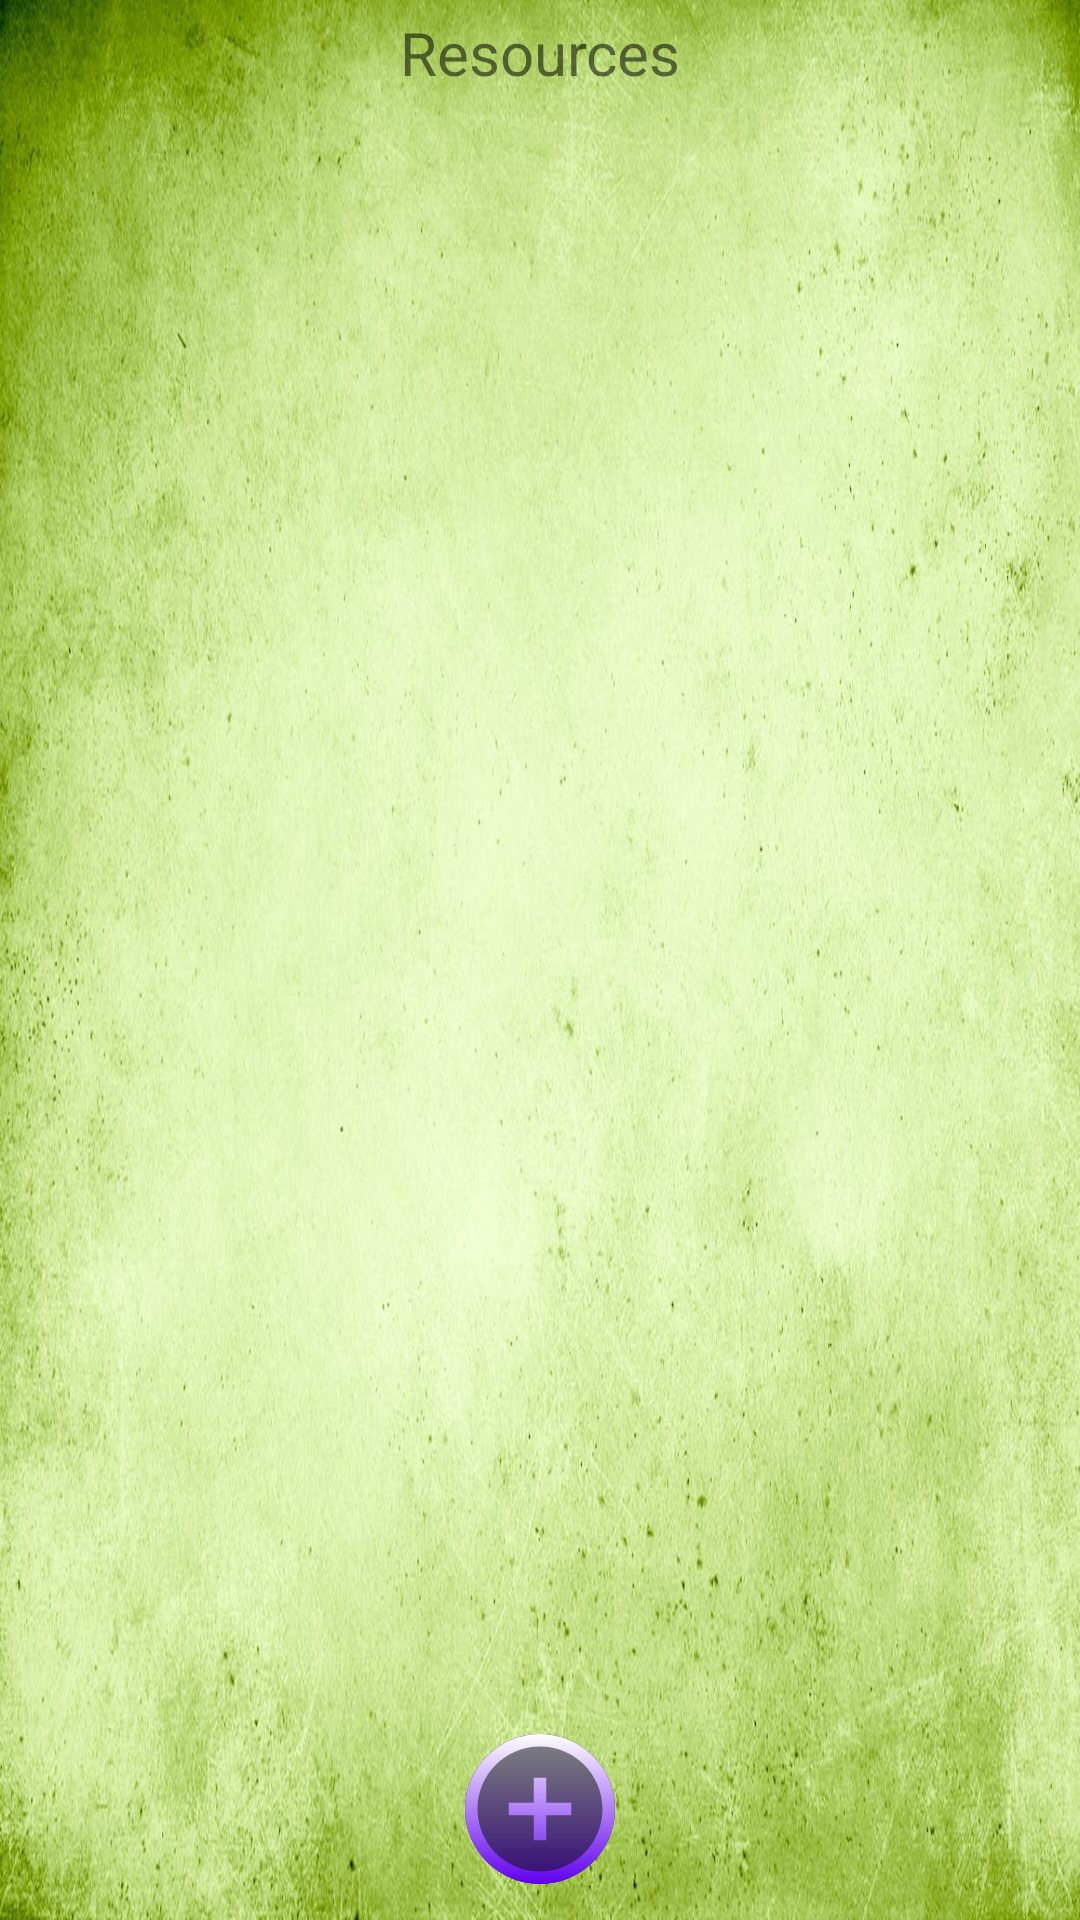

Where to tap for icons on this 1080x1920 app screen, as point (x, y):
add resources: point (540, 1809)
